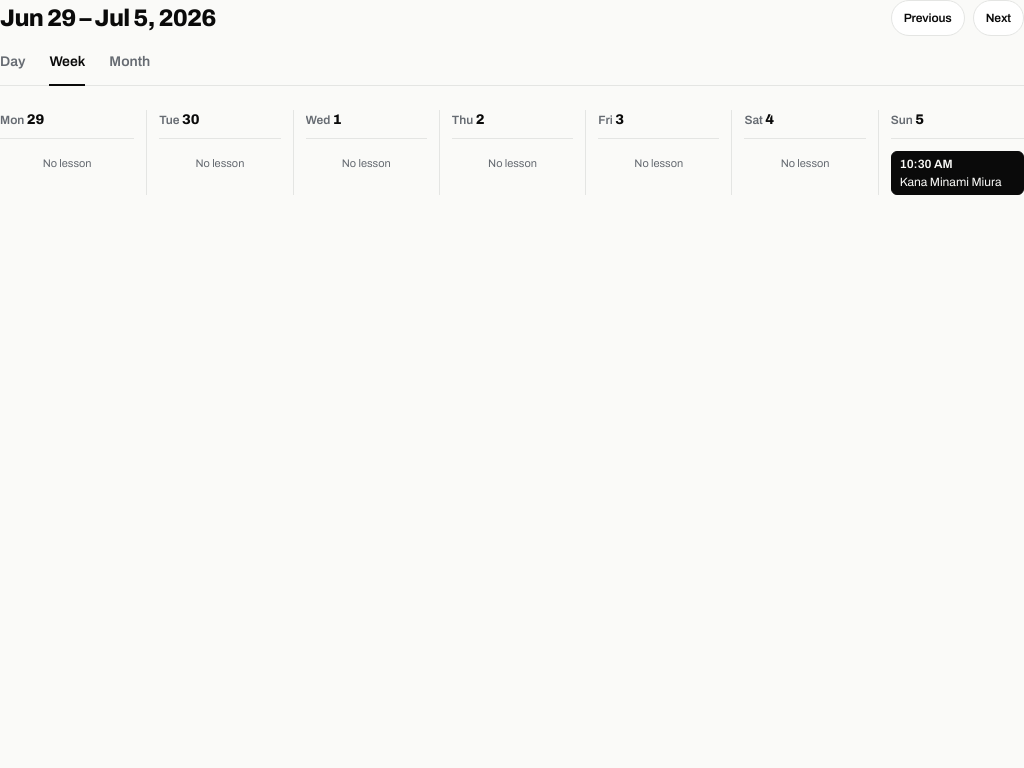
Scenario: DashboardScheduleCalendar › a student can open their own reservation
Click the button with test id "schedule-chip" at (957, 173), box [891,151,1023,195]
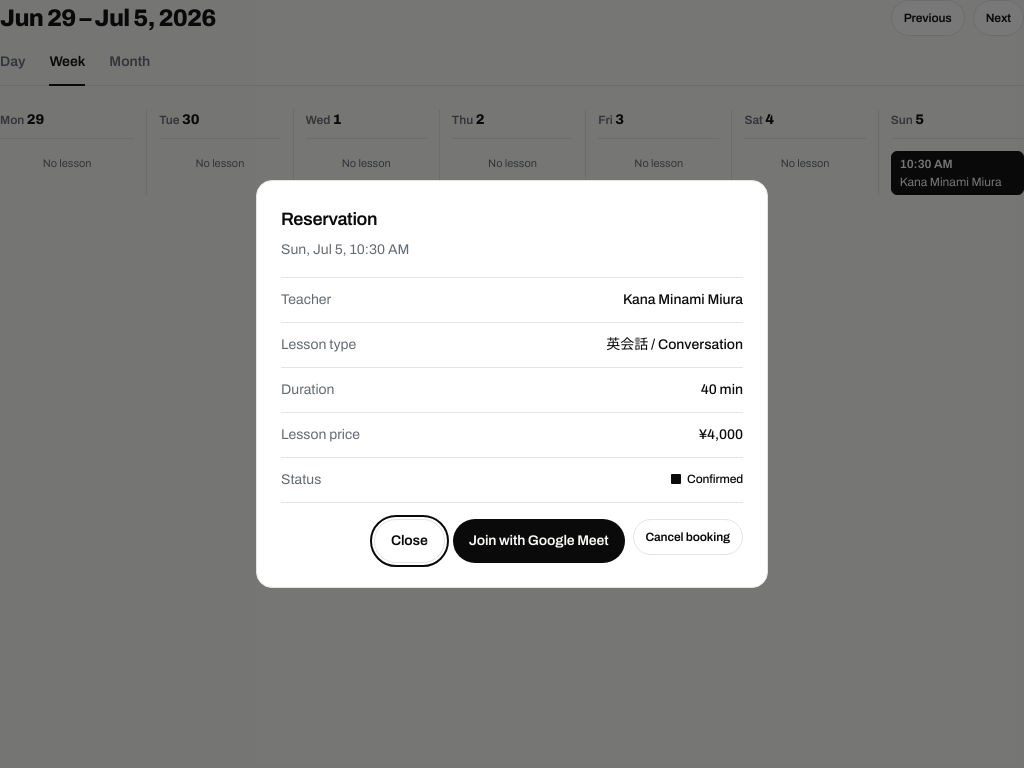
expect the heading "Reservation" is shown: met, box [281,209,377,229]
expect the text "英会話 / Conversation" is shown: met, box [606,335,743,355]
expect the text "40 min" is shown: met, box [701,382,743,397]
